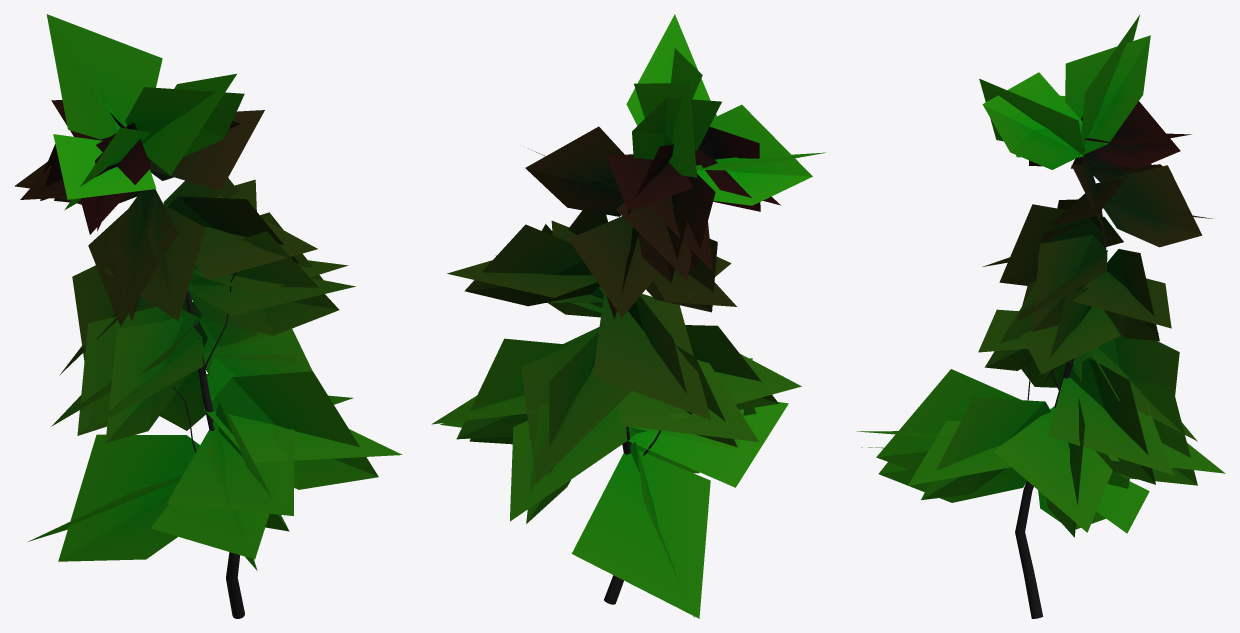
Rendered from birch_tree_11.FBX.
3 views of the same model, side by side, from view 1: azimuth 30°, elevation 25°; view 2: azimuth 150°, elevation 25°; view 3: azimuth 270°, elevation 25° (orthographic). The views are drawn at different scales.
Visible parts, largest first — view 1: birch_leaves_lod_0, birch_trunk_lod_0; view 2: birch_leaves_lod_0, birch_trunk_lod_0; view 3: birch_leaves_lod_0, birch_trunk_lod_0.
Boxes of the visible parts, x1,y1,x2,y2 form: birch_leaves_lod_0: (14,14,402,570); birch_trunk_lod_0: (131,122,244,618); birch_leaves_lod_0: (431,14,825,618); birch_trunk_lod_0: (604,426,661,604); birch_leaves_lod_0: (857,15,1225,537); birch_trunk_lod_0: (1015,157,1105,618).
Size of what is drawn, in the model's own units: 1.93 by 3.25 by 2.
